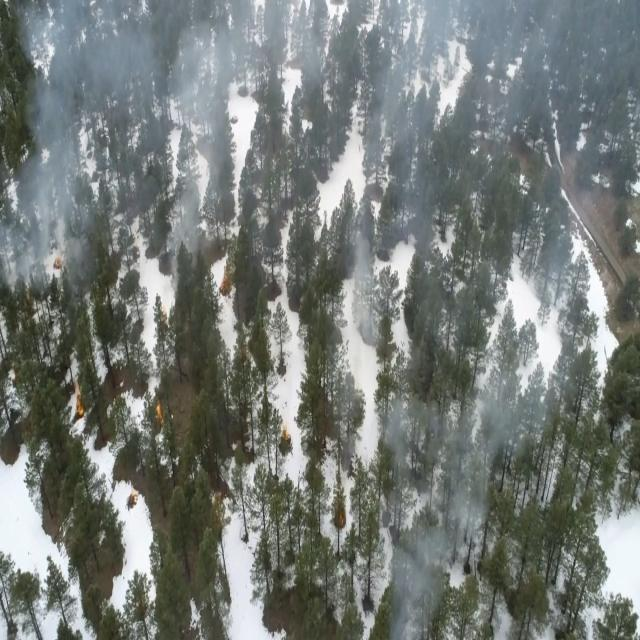Fire: (74, 384, 88, 418), (154, 398, 166, 430), (280, 424, 292, 444)
Smoke: (0, 82, 112, 306), (151, 44, 231, 300), (377, 388, 551, 496), (372, 500, 478, 640), (18, 2, 151, 82), (343, 216, 393, 356)
